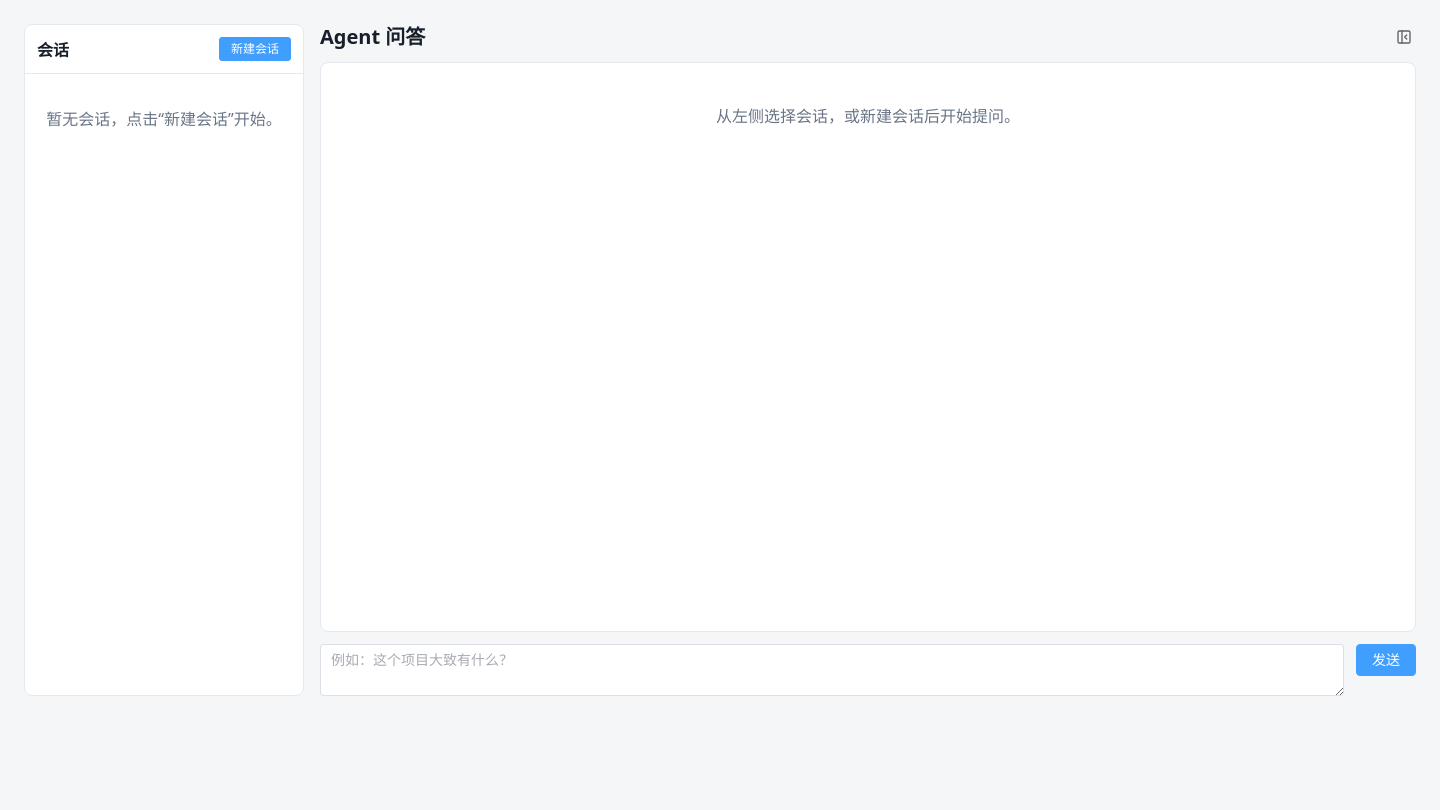
Test: ChatView › sends a message and renders streamed answer with sources
This screenshot has width=1440, height=810.
Type "项目有什么功能？" into the text box with placeholder "例如：这个项目大致有什么？". click: (832, 670)
box: [320,644,1344,696]
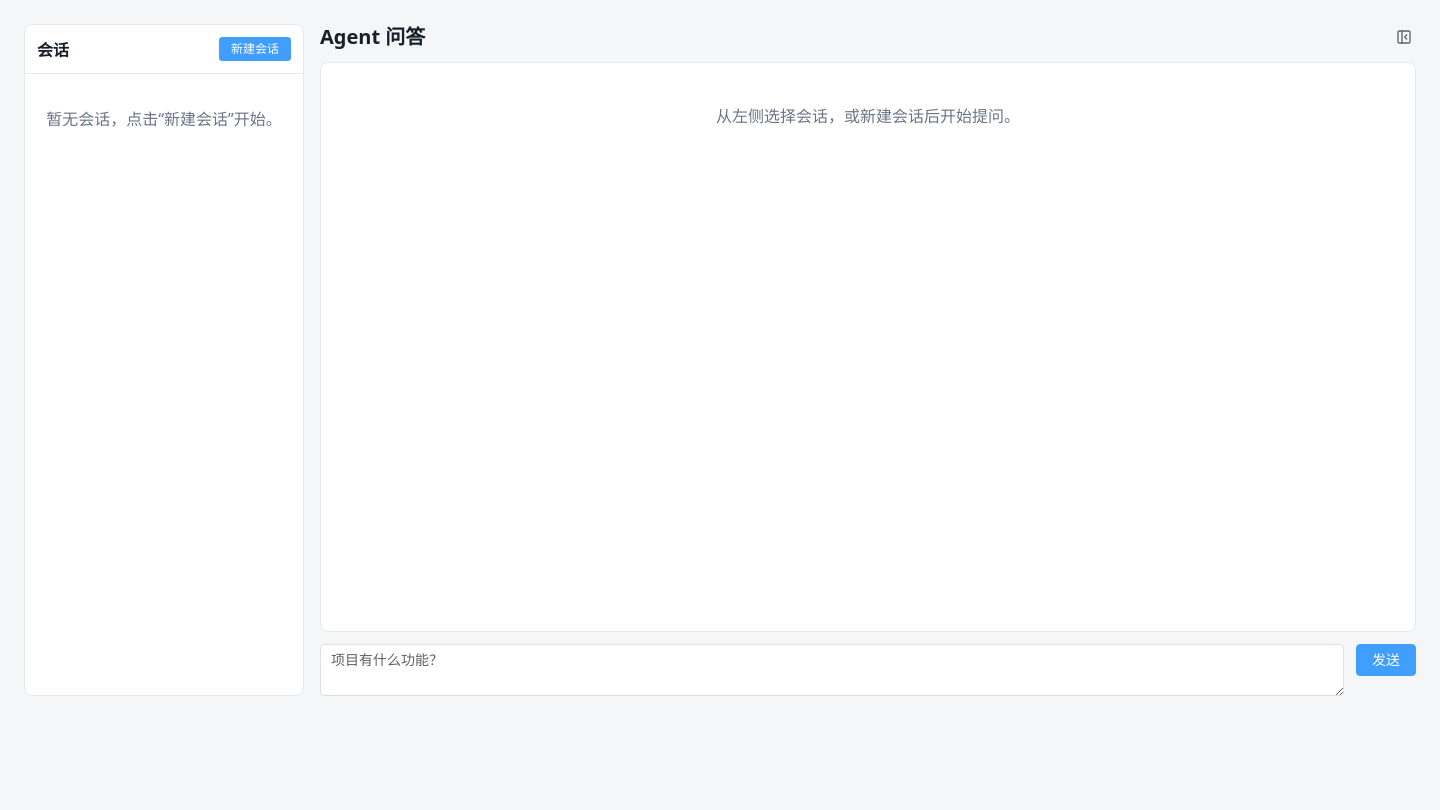
Click the button "发送". click: (1386, 660)
box: [1356,644,1416,676]
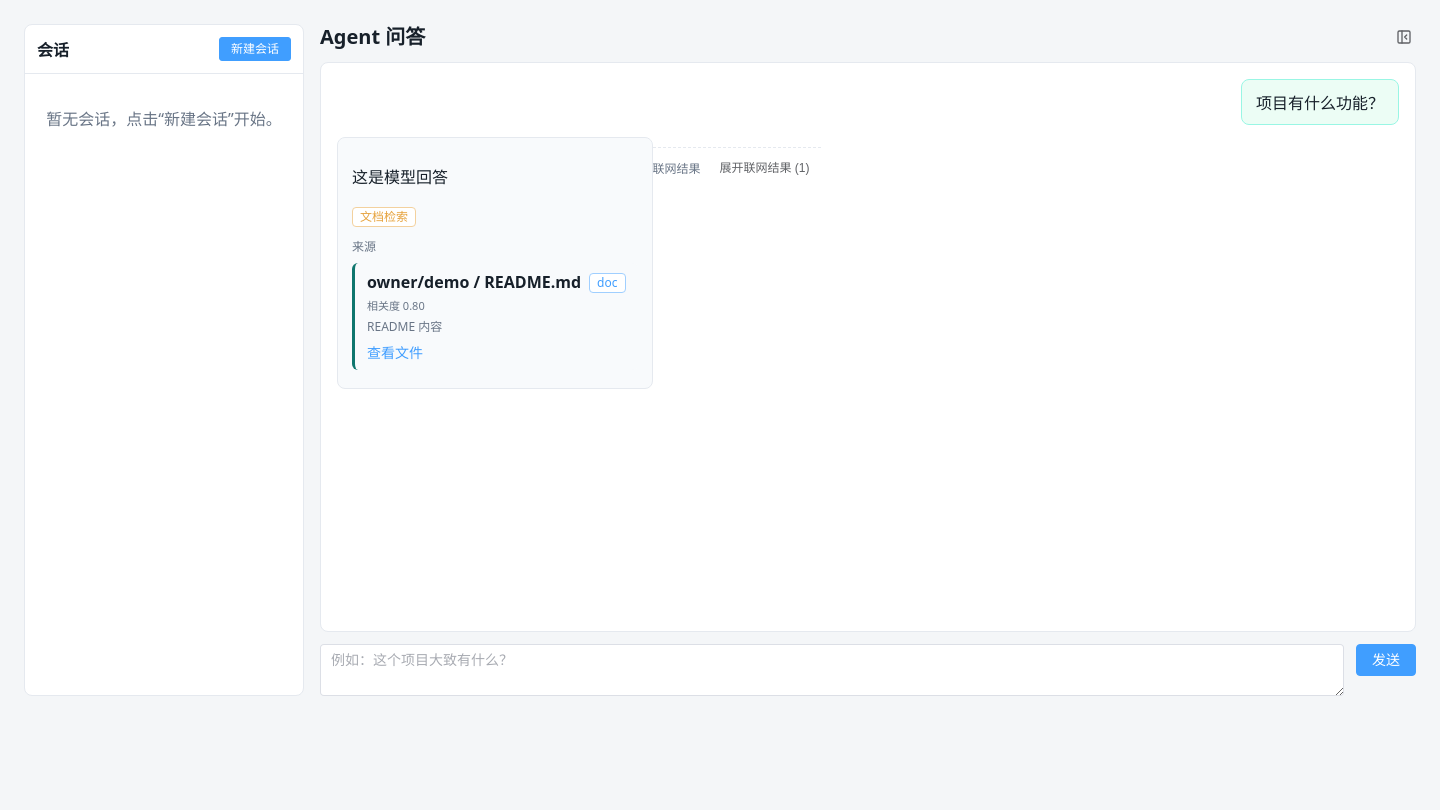
Now the text "项目有什么功能？" is shown, box [1256,90,1384,114]
Now the text "这是模型回答" is shown, box [352,166,448,188]
Now the text "owner/demo / README.md" is shown, box [367,271,581,293]
Click the button "展开联网结果 (1)". click: (764, 168)
box: [708,156,820,180]
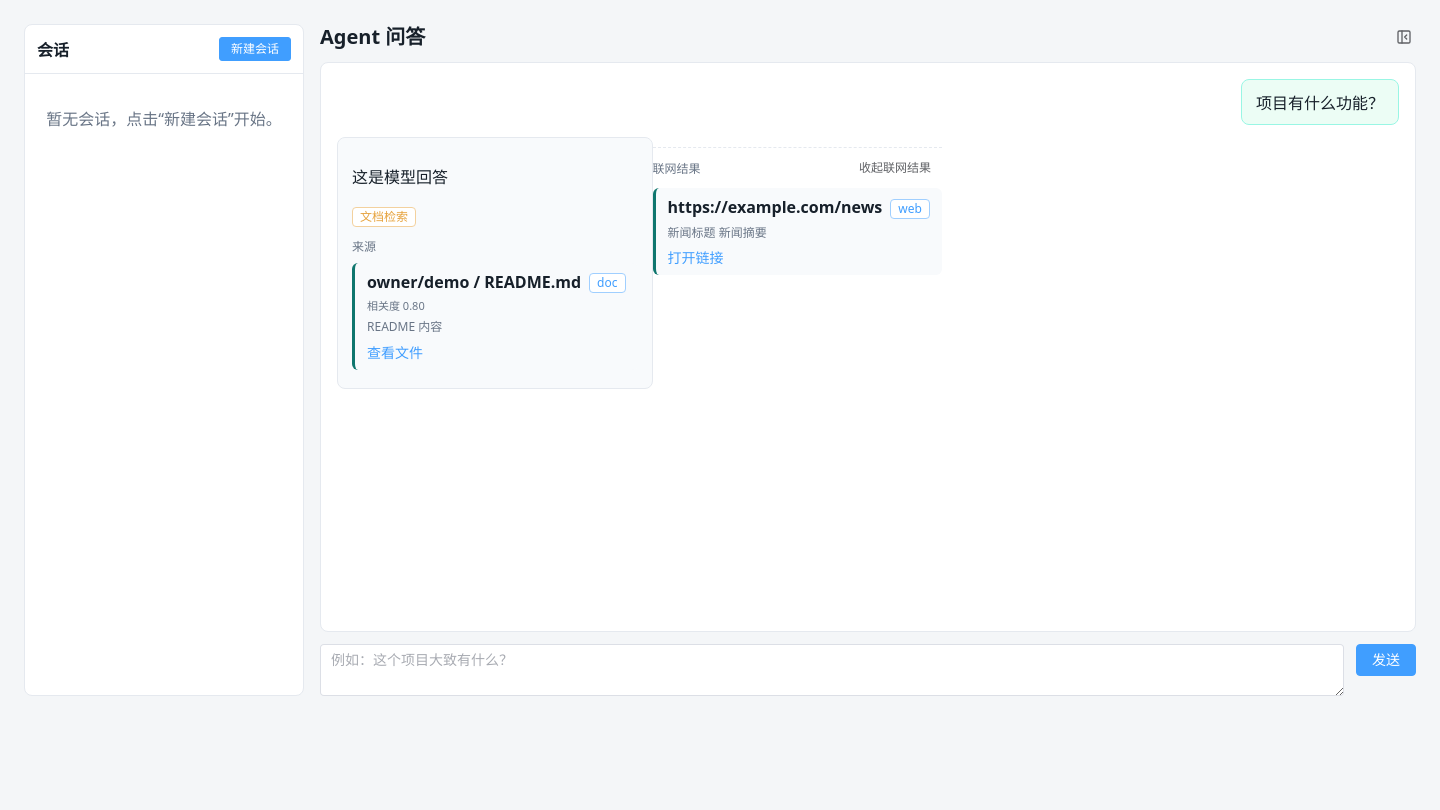
Now the text "打开链接" is shown, box [668,247,724,267]
